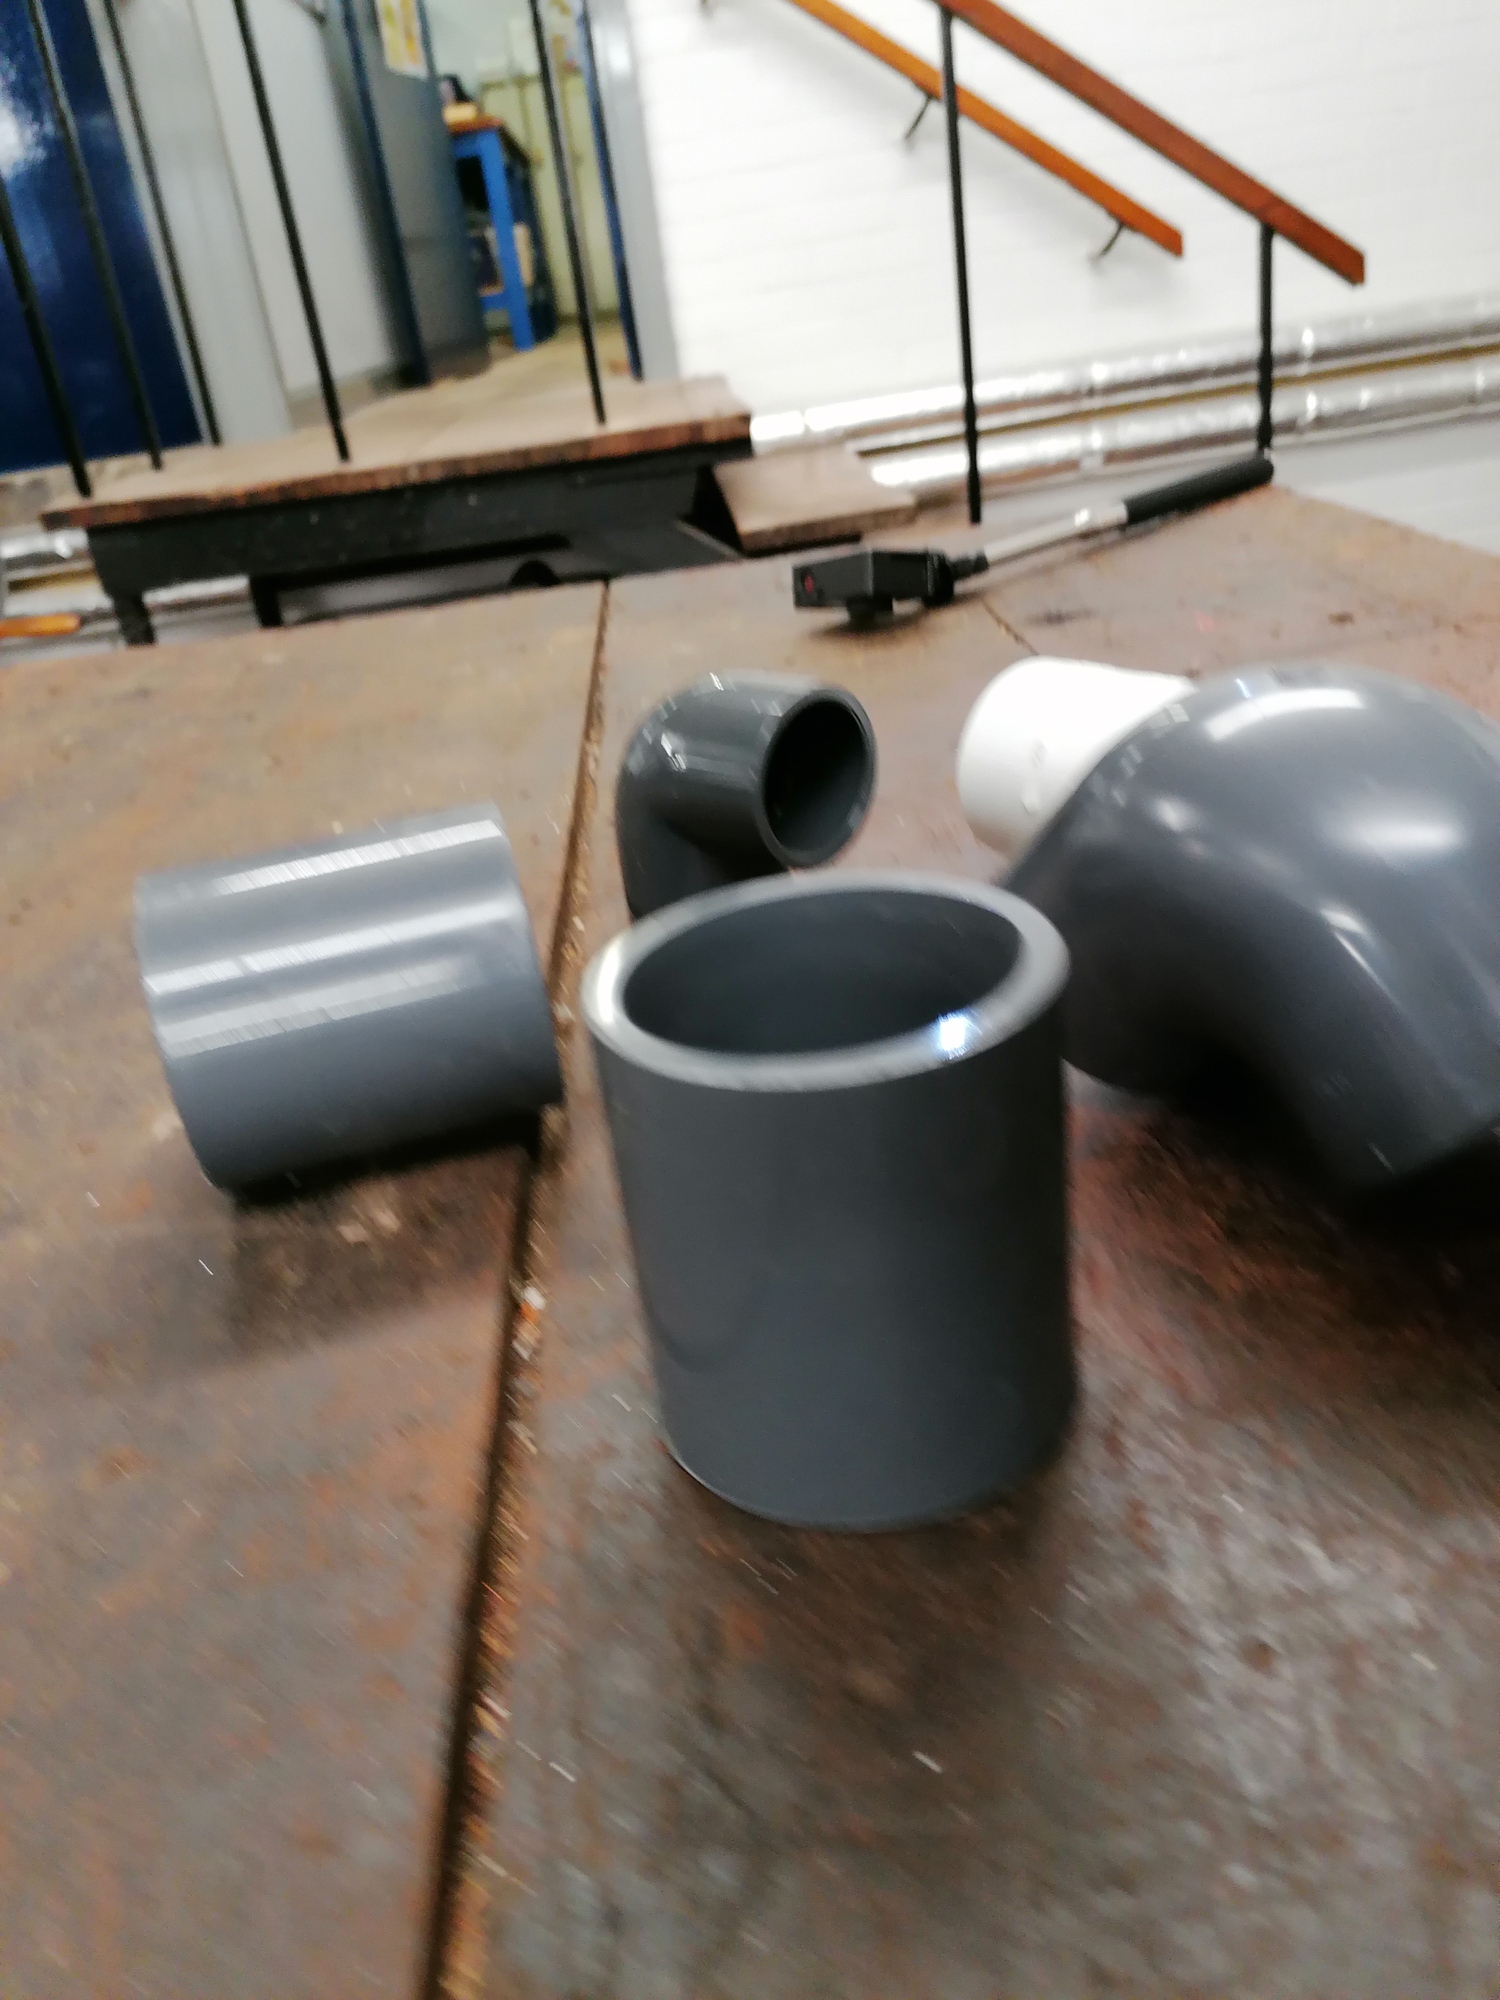pipe: (574, 860, 1100, 1532), (989, 655, 1500, 1191), (118, 798, 567, 1202), (613, 669, 879, 924), (949, 650, 1201, 855)
